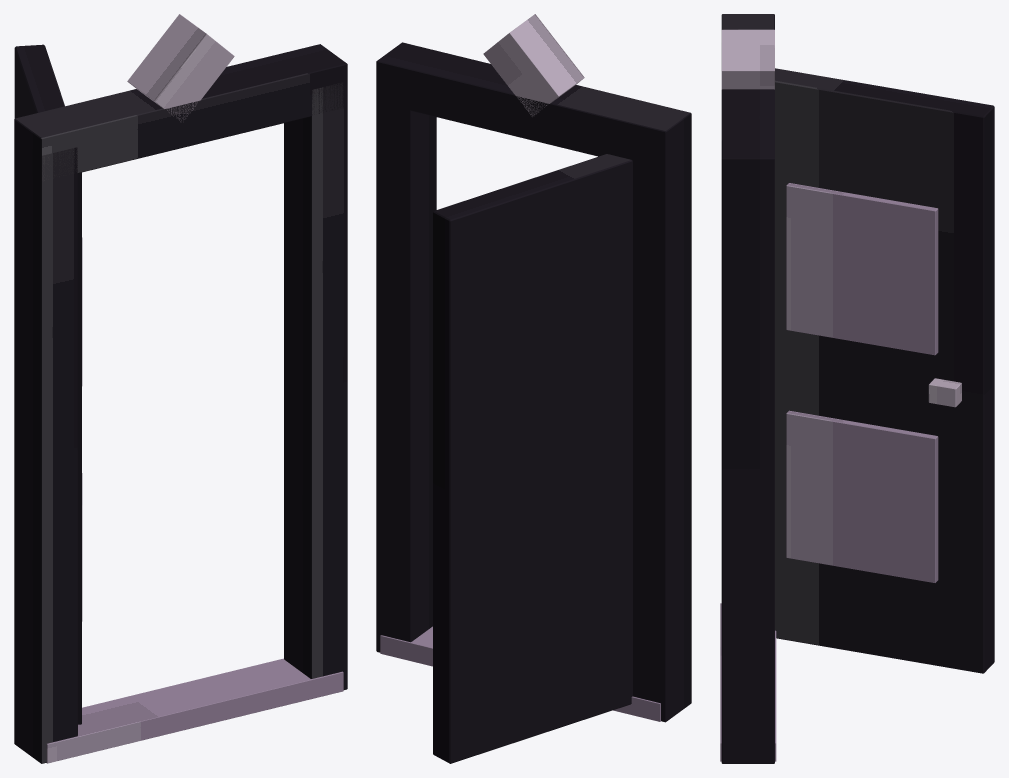
File: gothic_room_door.glb
3 views of the same model, side by side, from view 1: azimuth 30°, elevation 25°; view 2: azimuth 150°, elevation 25°; view 3: azimuth 270°, elevation 25° (orthographic). The views are drawn at different scales.
Visible parts, largest first — view 1: DoorFrameL, DoorFrameR, DoorFrameTop, Threshold, DoorSpire, OpenDoorLeaf; view 2: OpenDoorLeaf, DoorFrameL, DoorFrameR, DoorFrameTop, DoorSpire, Threshold; view 3: OpenDoorLeaf, DoorFrameR, DoorPanel_2, DoorPanel_1, DoorFrameTop, DoorSpire, DoorHandle, Threshold.
Part boxes in pixels (x1=…): DoorFrameL: x1=14, y1=136, x2=77, y2=763; DoorFrameR: x1=284, y1=81, x2=347, y2=689; DoorFrameTop: x1=14, y1=44, x2=347, y2=181; Threshold: x1=46, y1=658, x2=343, y2=763; DoorSpire: x1=127, y1=14, x2=234, y2=121; OpenDoorLeaf: x1=14, y1=44, x2=81, y2=724; OpenDoorLeaf: x1=433, y1=154, x2=632, y2=763; DoorFrameL: x1=631, y1=129, x2=691, y2=722; DoorFrameR: x1=376, y1=77, x2=436, y2=652; DoorFrameTop: x1=376, y1=42, x2=691, y2=172; DoorSpire: x1=483, y1=14, x2=584, y2=116; Threshold: x1=380, y1=626, x2=660, y2=721; OpenDoorLeaf: x1=775, y1=68, x2=994, y2=673; DoorFrameR: x1=721, y1=175, x2=774, y2=763; DoorPanel_2: x1=786, y1=183, x2=938, y2=355; DoorPanel_1: x1=786, y1=410, x2=938, y2=582; DoorFrameTop: x1=721, y1=14, x2=774, y2=194; DoorSpire: x1=721, y1=29, x2=774, y2=89; DoorHandle: x1=928, y1=378, x2=961, y2=407; Threshold: x1=720, y1=603, x2=776, y2=761.
Size of the model in its own units: 1.16 by 2.49 by 0.9282.
1 material, 1 textured.
